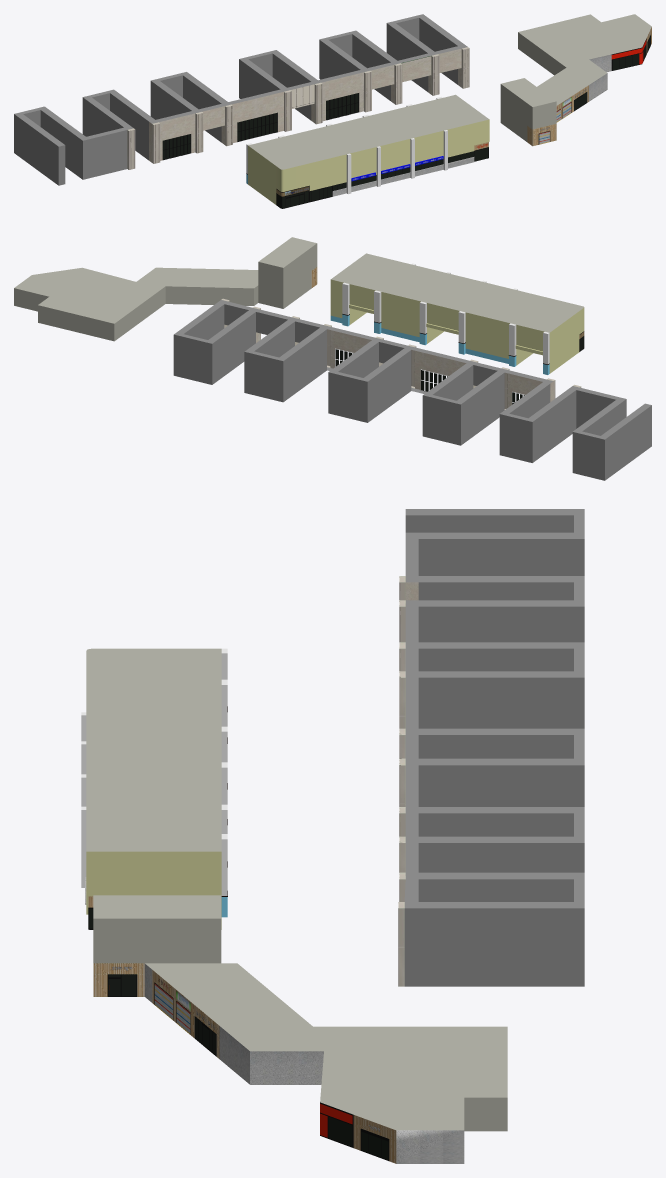
The model's file is StationDoor.fbx.
3 renders of one model, top to bottom at view 1: azimuth 30°, elevation 25°; view 2: azimuth 150°, elevation 25°; view 3: azimuth 270°, elevation 25°, orthographic. The views are drawn at different scales.
Parts seen in each view (by area): view 1: Box227, Object034, Line005, Box011, Box228; view 2: Box227, Object034, Line005, Box011; view 3: Box227, Line005, Object034, Box011.
Boxes of the visible parts, x1,y1,x2,y2 form: Box227: (14, 14, 469, 185); Object034: (246, 94, 489, 208); Line005: (518, 14, 651, 122); Box011: (500, 78, 556, 146); Box228: (351, 156, 443, 181); Box227: (173, 298, 651, 480); Object034: (330, 253, 584, 374); Line005: (14, 267, 258, 341); Box011: (258, 237, 317, 308); Box227: (398, 509, 584, 986); Line005: (144, 963, 507, 1163); Object034: (81, 648, 227, 929); Box011: (93, 895, 221, 996).
Size of the model in its own units: 111 by 7 by 40.83.
Materials: 23 (12 with a texture image).
